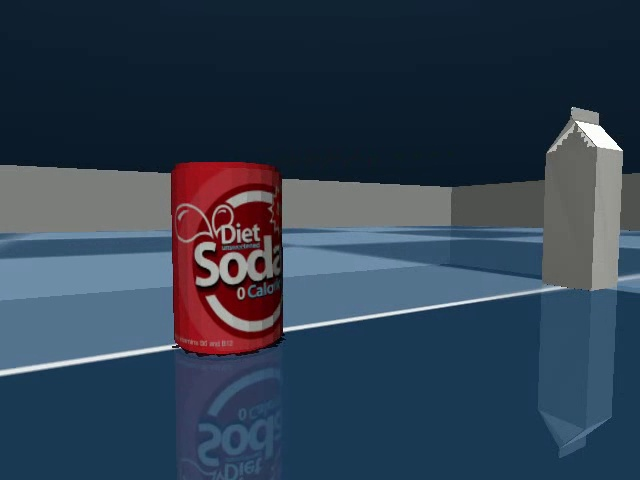can: (162, 151, 291, 368)
milk: (535, 99, 627, 302)
